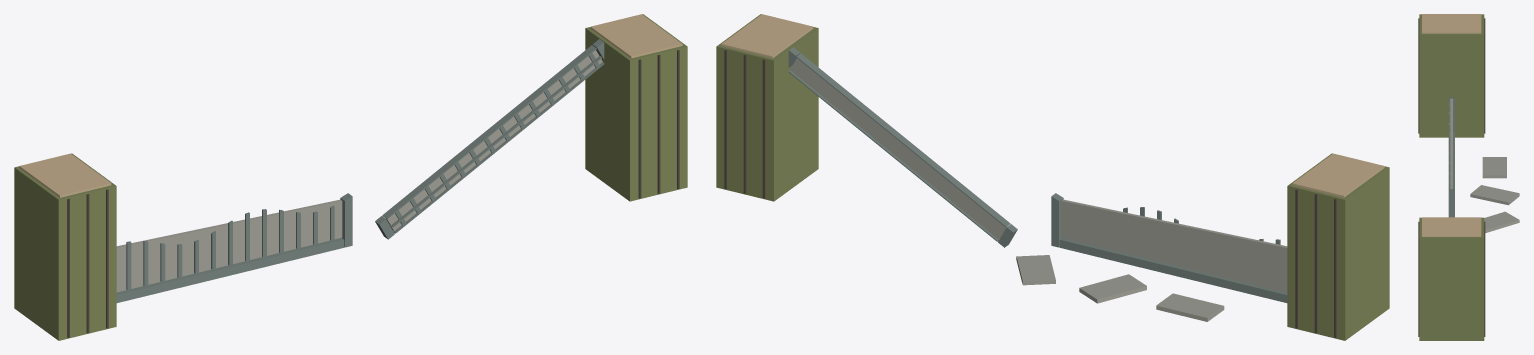
The model's file is SM_PuertaVehiculos_v1_ChapaOndulada_e2_MuyDanado_LOD0.fbx.
3 renders of one model, left to right at view 1: azimuth 30°, elevation 25°; view 2: azimuth 150°, elevation 25°; view 3: azimuth 270°, elevation 25°, orthographic. The views are drawn at different scales.
Visible parts, largest first — view 1: SM_bloques.puerta_estados_v6_LOD0, Hoja_O, Hoja_E; view 2: SM_bloques.puerta_estados_v6_LOD0, Hoja_O, Hoja_E; view 3: SM_bloques.puerta_estados_v6_LOD0, Hoja_O.
Part boxes in pixels (x1,y1,x2,y2): SM_bloques.puerta_estados_v6_LOD0: (14, 14, 687, 340); Hoja_O: (116, 193, 352, 302); Hoja_E: (375, 39, 604, 239); SM_bloques.puerta_estados_v6_LOD0: (716, 14, 1389, 340); Hoja_O: (1051, 193, 1287, 302); Hoja_E: (788, 47, 1017, 247); SM_bloques.puerta_estados_v6_LOD0: (1418, 14, 1519, 340); Hoja_O: (1448, 97, 1454, 217).
Size of the model in its own units: 9.8 by 2.19 by 1.88.
